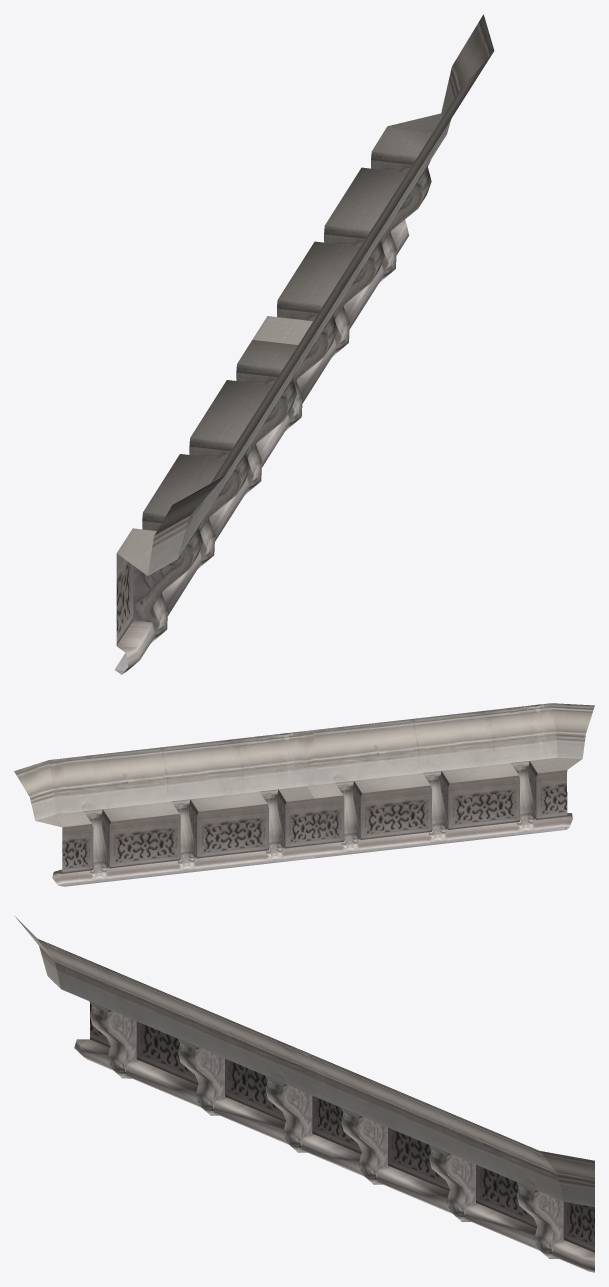
Rendered from WallRooflineDiag2C.fbx.
3 views of the same model, one above another, from view 1: azimuth 30°, elevation 25°; view 2: azimuth 150°, elevation 25°; view 3: azimuth 270°, elevation 25° (orthographic). The views are drawn at different scales.
Visible parts, largest first — view 1: WallRooflineDiag2C; view 2: WallRooflineDiag2C; view 3: WallRooflineDiag2C.
Part boxes in pixels (x1,y1,x2,y2): WallRooflineDiag2C: (114, 14, 494, 674); WallRooflineDiag2C: (14, 703, 594, 886); WallRooflineDiag2C: (15, 916, 594, 1272).
Bounding box in the file's own units: 260 × 71.18 × 260.
